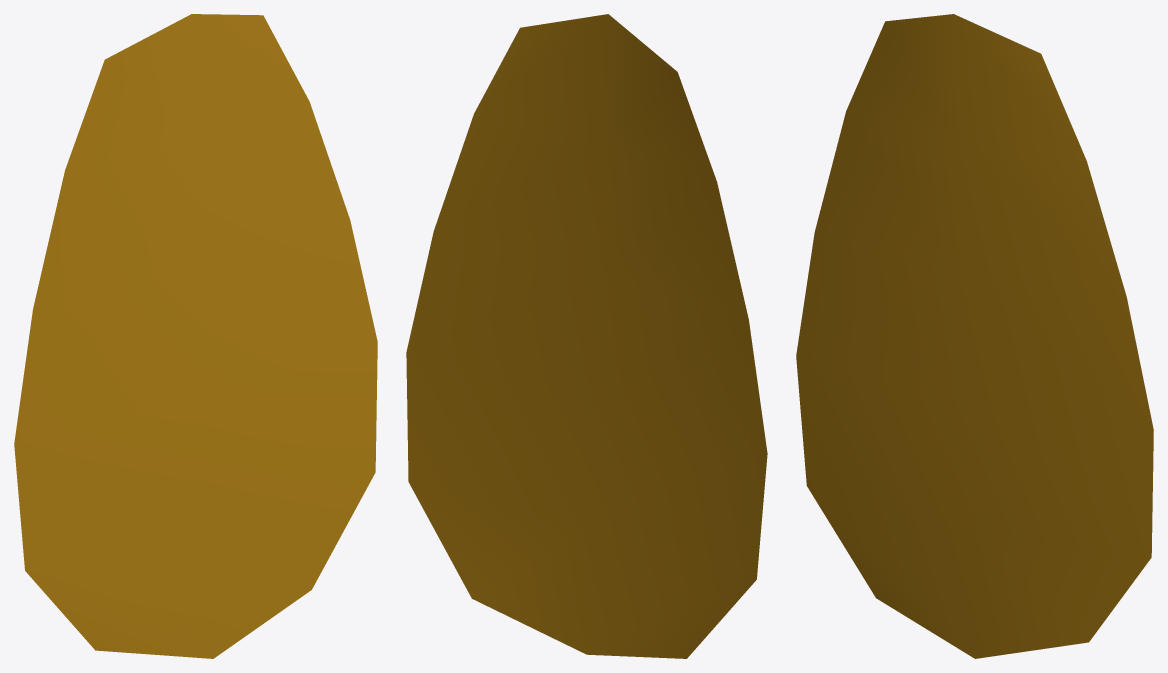
Rendered from canary_feather_flight_tertiary_007.obj.
3 renders of one model, left to right at view 1: azimuth 30°, elevation 25°; view 2: azimuth 150°, elevation 25°; view 3: azimuth 330°, elevation 25°, orthographic.
Visible parts, largest first — view 1: feather_flight_tertiary_007; view 2: feather_flight_tertiary_007; view 3: feather_flight_tertiary_007.
Part boxes in pixels (x1,y1,x2,y2): feather_flight_tertiary_007: (14,14,377,658); feather_flight_tertiary_007: (406,14,767,658); feather_flight_tertiary_007: (796,14,1153,658).
Size of the model in its own units: 0.00377 by 0.00645 by 0.000155.
